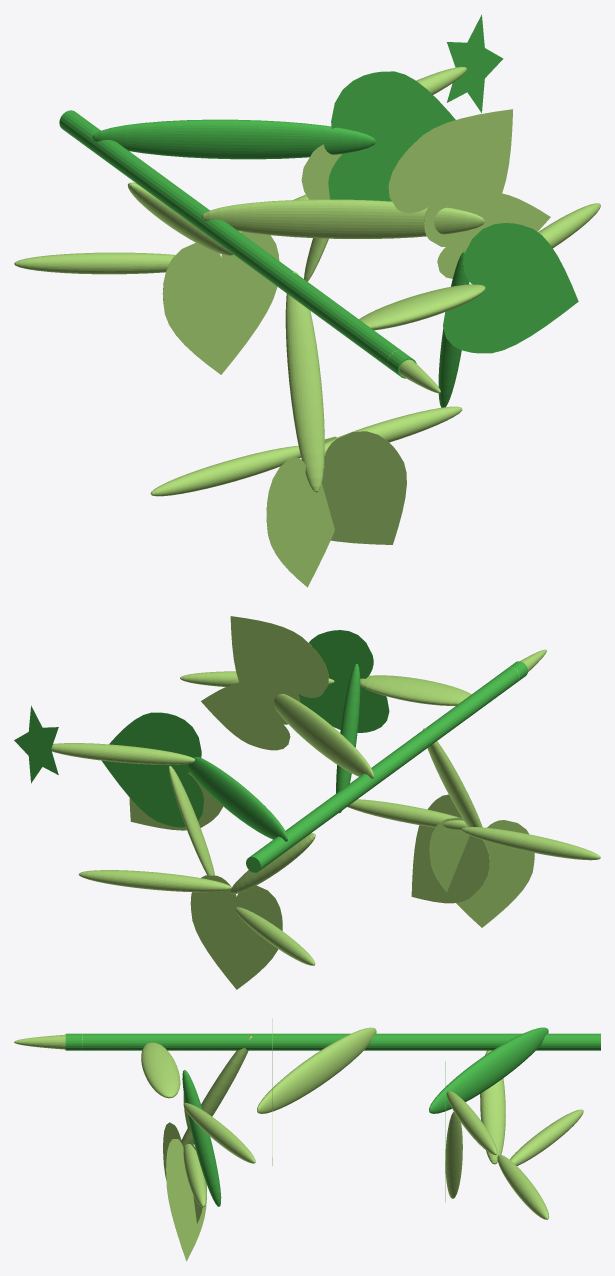
File: tinker.obj
3 views of the same model, one above another, from view 1: azimuth 30°, elevation 25°; view 2: azimuth 150°, elevation 25°; view 3: azimuth 270°, elevation 25° (orthographic). The views are drawn at different scales.
Parts seen in each view (by area): view 1: group_0_11262579, group_0_4634441; view 2: group_0_11262579, group_0_4634441; view 3: group_0_11262579, group_0_4634441.
Part boxes in pixels (x1,y1,x2,y2): group_0_11262579: (14,66,600,587); group_0_4634441: (59,14,578,407); group_0_11262579: (51,616,600,989); group_0_4634441: (14,630,527,872); group_0_11262579: (14,1018,583,1261); group_0_4634441: (65,1027,600,1206).
Bounding box in the file's own units: 28.98 × 19 × 34.
